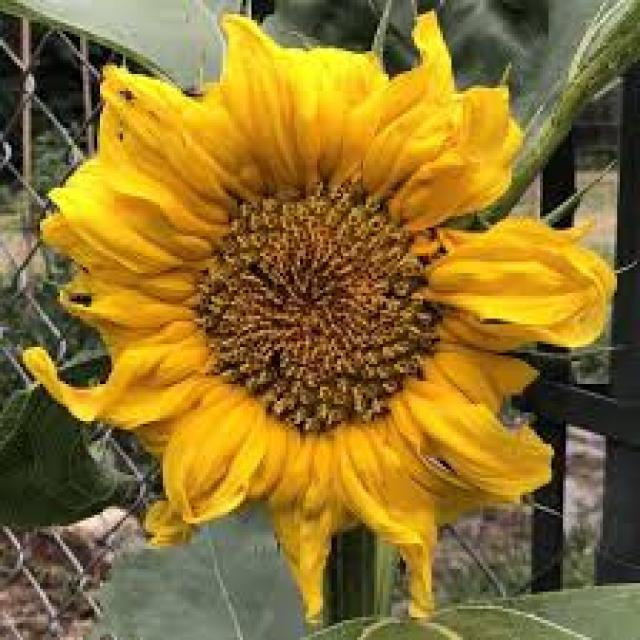sunflower: (16, 0, 628, 634)
